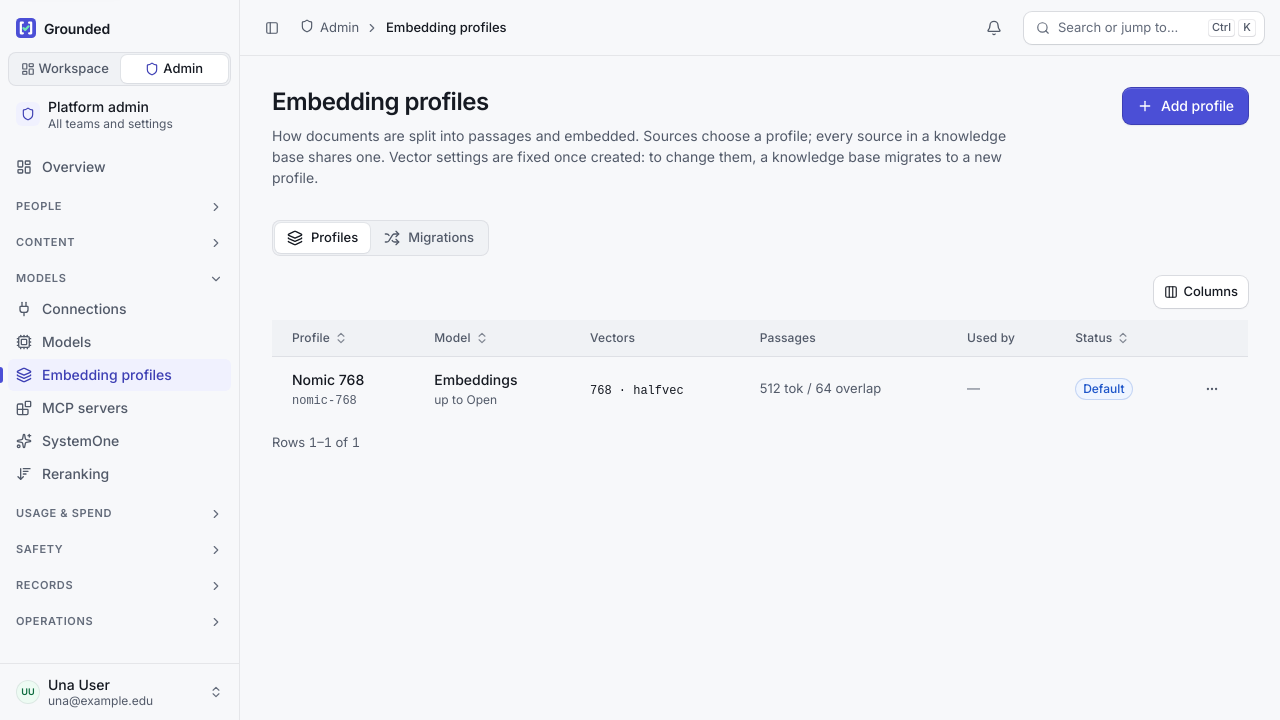
Test: the profile form › shows the server's refusal at the field
Click the button "Add profile" at (1186, 106), box [1123,88,1248,124]
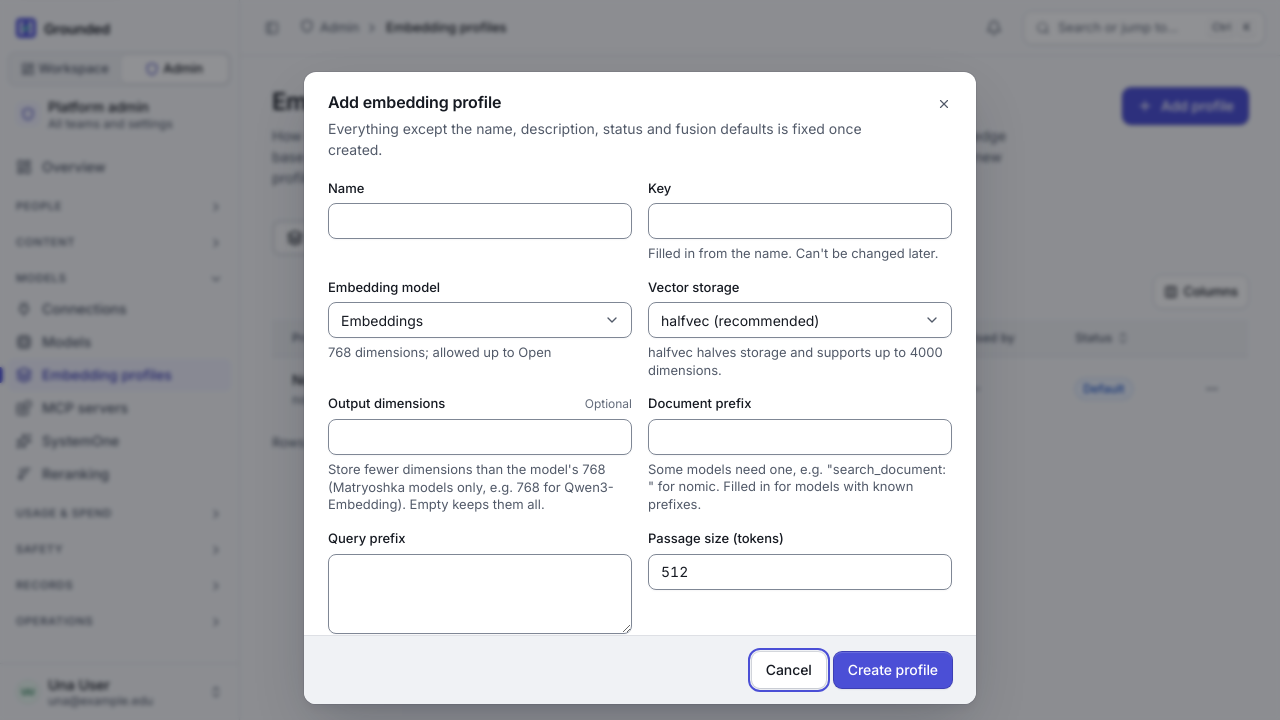
Type "Refused" into the field labelled "Name" at (480, 221), box [328,203,632,239]
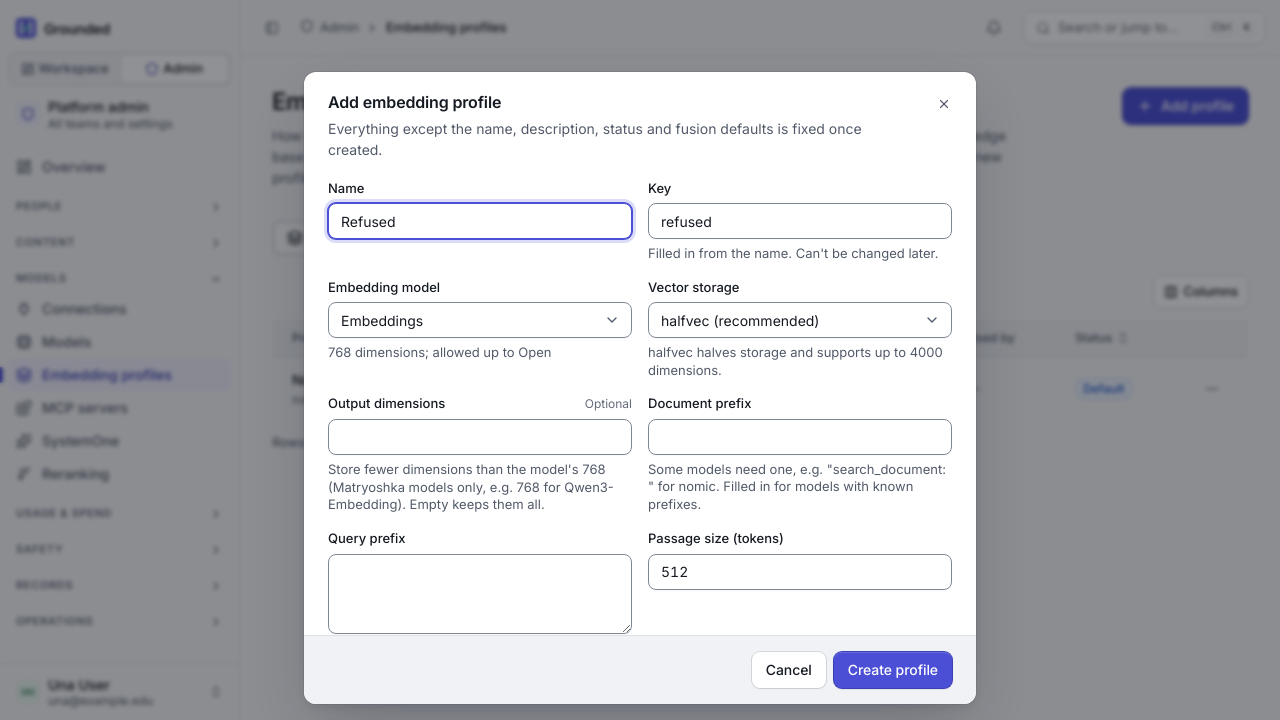
Click the button "Create profile" at (893, 670), box [834,652,952,688]
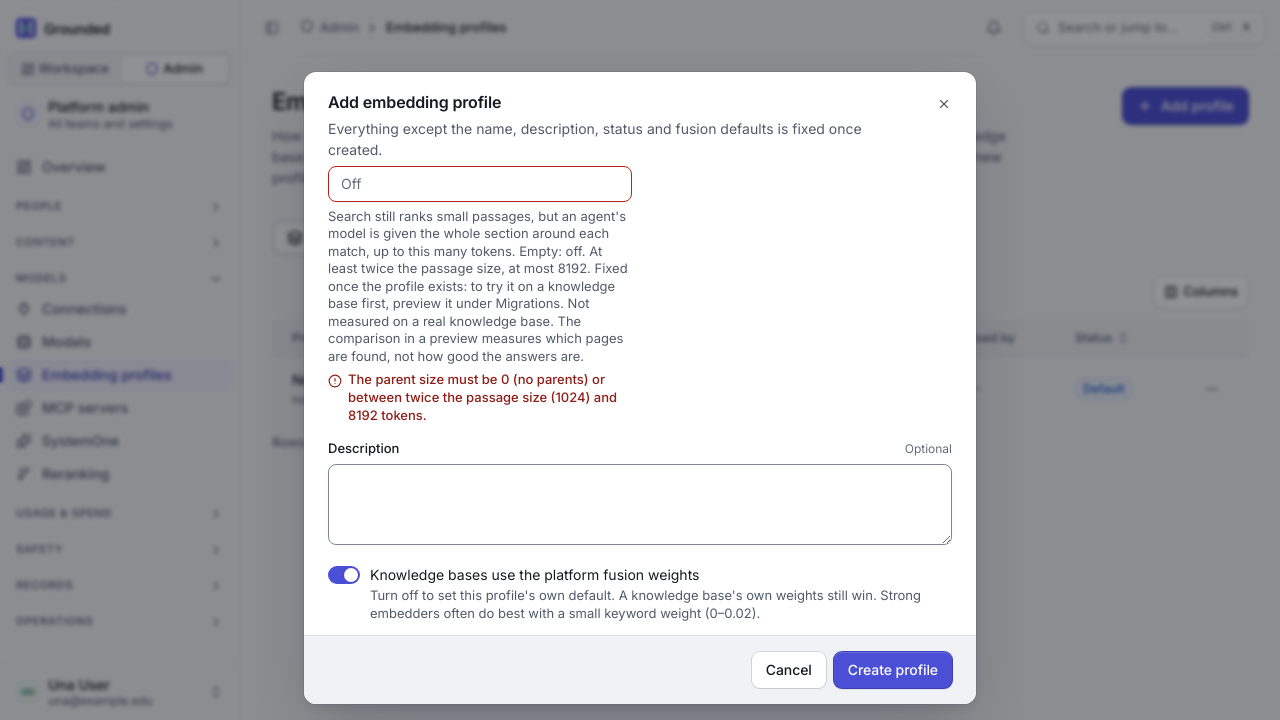
Check: the text "The parent size must be 0" is shown, box [348,372,617,423]
Check: the text "The parent size must be 0" is shown once, box [348,372,632,424]
